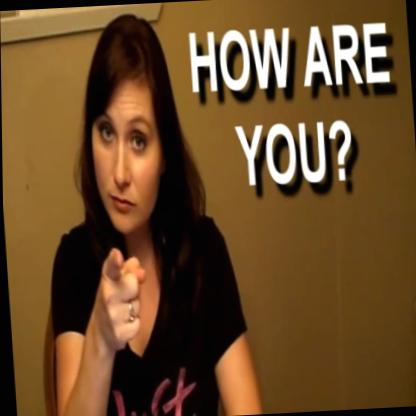HowAreYou: (82, 232, 203, 402)
